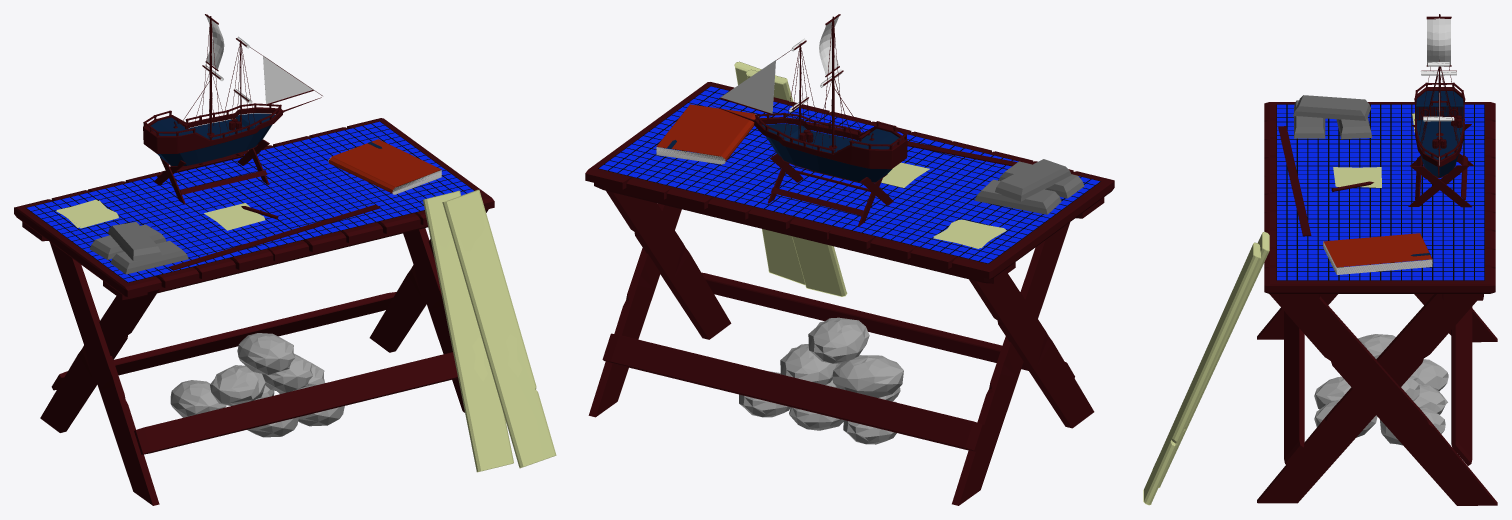
The model's file is Table.fbx.
3 renders of one model, left to right at view 1: azimuth 30°, elevation 25°; view 2: azimuth 150°, elevation 25°; view 3: azimuth 270°, elevation 25°, orthographic. The views are drawn at different scales.
Visible parts, largest first — view 1: Table; view 2: Table; view 3: Table.
Boxes of the visible parts, box(x1,y1,x2,y2) form: Table: box(14, 14, 556, 505); Table: box(585, 14, 1114, 505); Table: box(1143, 14, 1497, 505).
Size of the model in its own units: 247 by 246 by 200.
